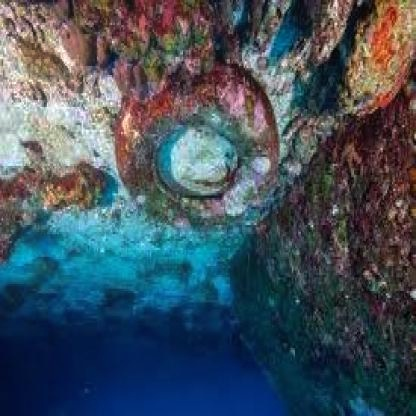tire: (125, 50, 286, 239)
